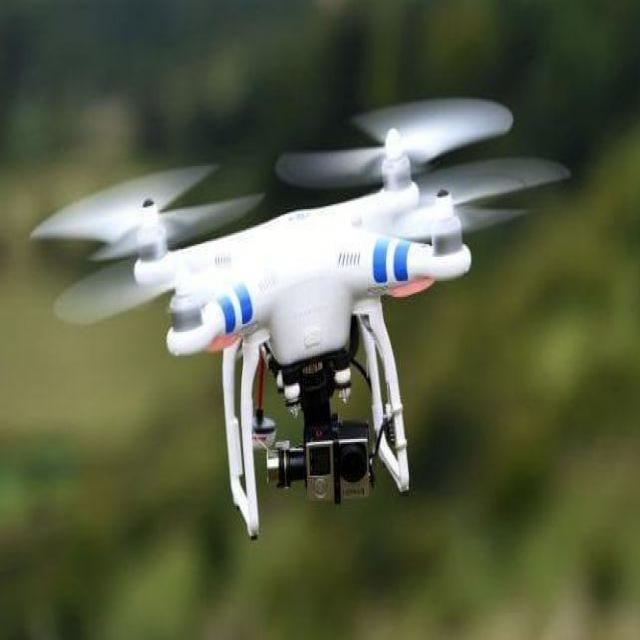UAV: (132, 125, 474, 542)
